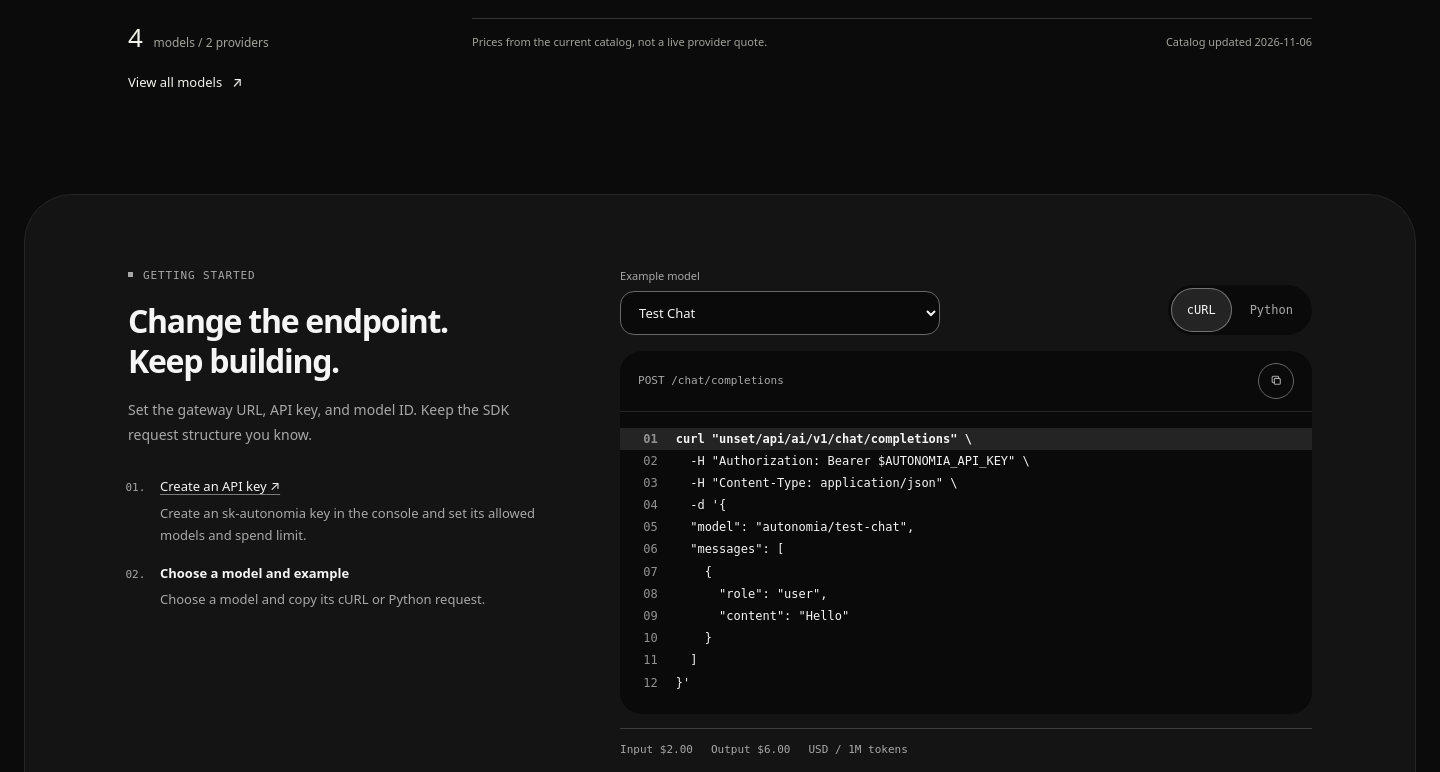
HomePage › copies a runnable request without line numbers or a fabricated response
(page scrolled)
Click the button named "Copy": (1276, 380) [1258, 362, 1294, 398]
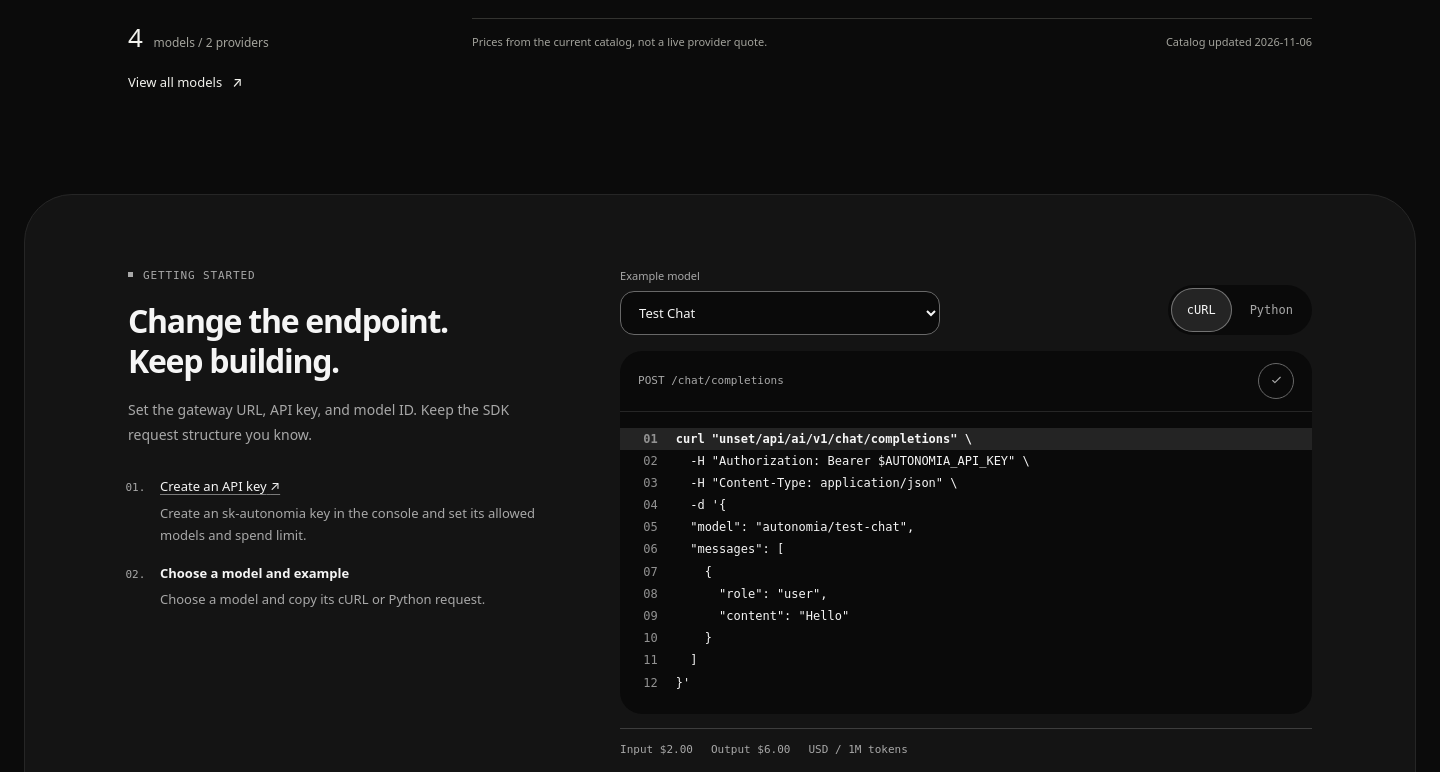
Expected: the button named "Copied" is shown, [1258, 362, 1294, 398]
